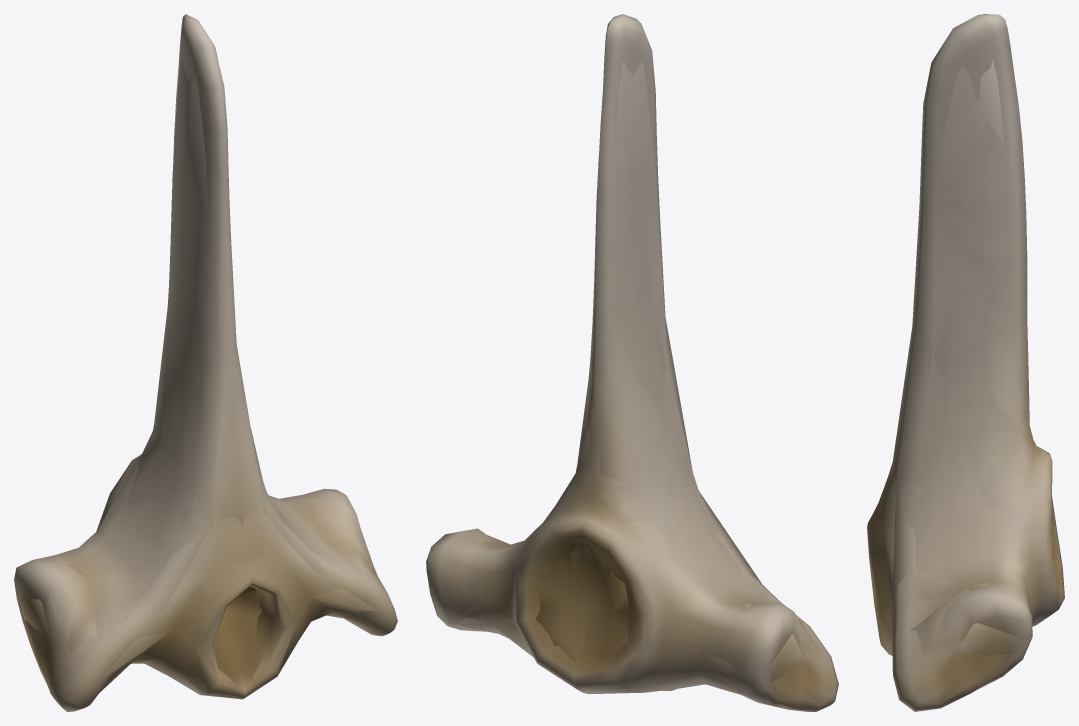
Rendered from vertebrae thoracicae 06.fbx.
3 views of the same model, side by side, from view 1: azimuth 30°, elevation 25°; view 2: azimuth 150°, elevation 25°; view 3: azimuth 270°, elevation 25° (orthographic). The views are drawn at different scales.
Parts seen in each view (by area): view 1: vertebrae thoracicae 06, vertebrae thoracicae 06 low; view 2: vertebrae thoracicae 06, vertebrae thoracicae 06 low; view 3: vertebrae thoracicae 06, vertebrae thoracicae 06 low.
Boxes of the visible parts, x1,y1,x2,y2 form: vertebrae thoracicae 06: [14, 14, 397, 711]; vertebrae thoracicae 06 low: [18, 55, 379, 693]; vertebrae thoracicae 06: [426, 14, 838, 711]; vertebrae thoracicae 06 low: [450, 61, 817, 689]; vertebrae thoracicae 06: [867, 14, 1064, 711]; vertebrae thoracicae 06 low: [887, 60, 1063, 655].
Bounding box in the file's own units: 5.03 × 9.25 × 2.6.
Materials: 1 (1 with a texture image).
